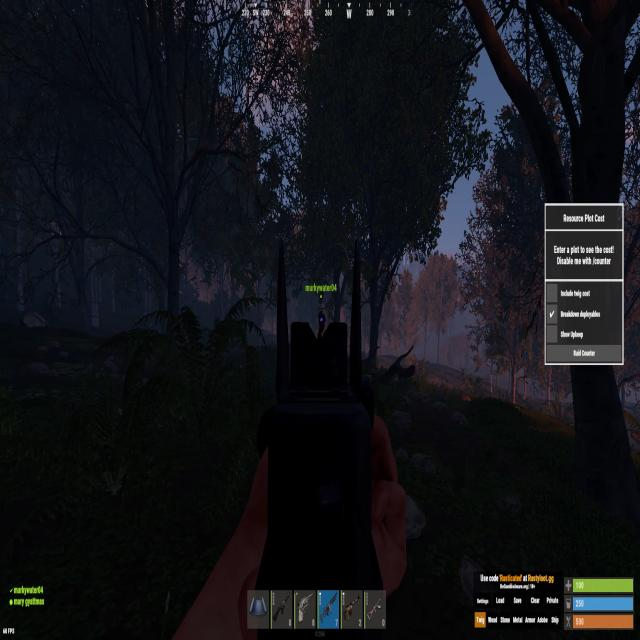Player: (316, 304, 326, 338)
